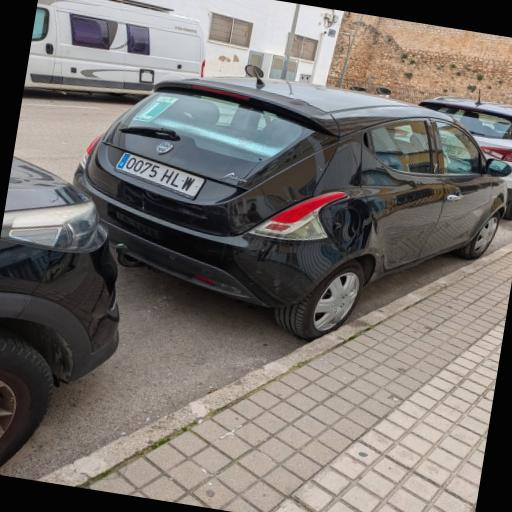numberplates: (116, 153, 205, 198)
